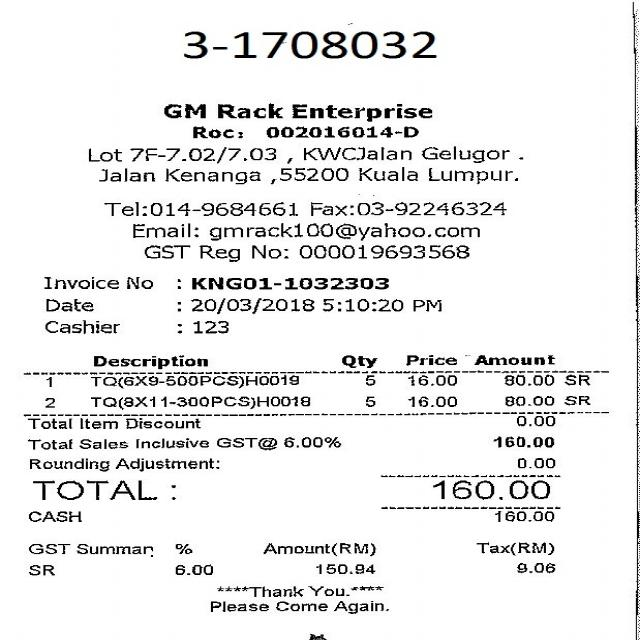text: (181, 29, 433, 56), (208, 222, 477, 238), (89, 395, 310, 408), (308, 200, 504, 214), (88, 373, 298, 386), (102, 200, 295, 214), (290, 102, 429, 120), (31, 479, 157, 498), (189, 276, 386, 288), (127, 146, 274, 162), (298, 243, 466, 257), (432, 479, 550, 498), (188, 297, 311, 313), (264, 125, 416, 137), (162, 167, 258, 183), (418, 145, 506, 162), (427, 166, 515, 183), (262, 542, 373, 555), (302, 145, 408, 158), (93, 355, 206, 367), (268, 166, 345, 183), (115, 458, 217, 470), (215, 101, 280, 117), (73, 542, 151, 555), (475, 541, 552, 554), (42, 319, 117, 332), (320, 297, 401, 309), (27, 458, 106, 470), (473, 354, 556, 365), (132, 222, 196, 236), (123, 417, 199, 428), (42, 276, 116, 287), (356, 166, 414, 179), (214, 436, 275, 448), (133, 436, 206, 446), (97, 167, 152, 180), (333, 599, 387, 612), (196, 244, 237, 261), (495, 508, 553, 520), (491, 435, 552, 446), (406, 373, 456, 386), (313, 562, 372, 573), (249, 584, 302, 596), (209, 599, 266, 610), (405, 353, 457, 365), (505, 373, 553, 386), (27, 510, 82, 521), (191, 125, 240, 137), (162, 102, 203, 116), (143, 244, 187, 257), (44, 297, 91, 309), (405, 394, 455, 405), (250, 243, 286, 257), (283, 436, 339, 445), (77, 437, 125, 447), (26, 417, 69, 428), (26, 437, 69, 448), (505, 394, 552, 404), (192, 319, 228, 332), (274, 600, 325, 609), (307, 584, 344, 596), (340, 354, 374, 367), (27, 542, 67, 553), (86, 147, 119, 160), (516, 414, 553, 425), (78, 417, 114, 428), (516, 456, 552, 467), (516, 562, 553, 572), (173, 563, 210, 573), (124, 276, 151, 287), (411, 298, 438, 309), (564, 374, 590, 384), (27, 563, 52, 573), (562, 394, 588, 403), (173, 542, 189, 553), (43, 374, 54, 386), (42, 397, 55, 407), (363, 374, 375, 384), (363, 394, 372, 405)
